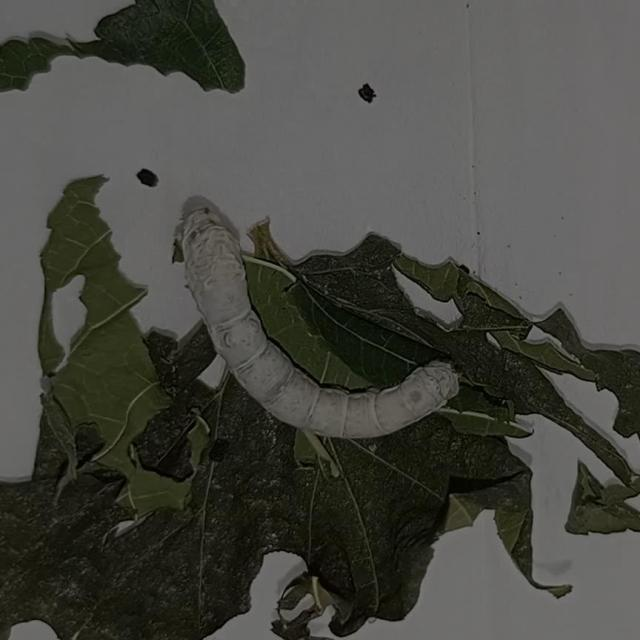Healthy: (156, 165, 502, 468)
